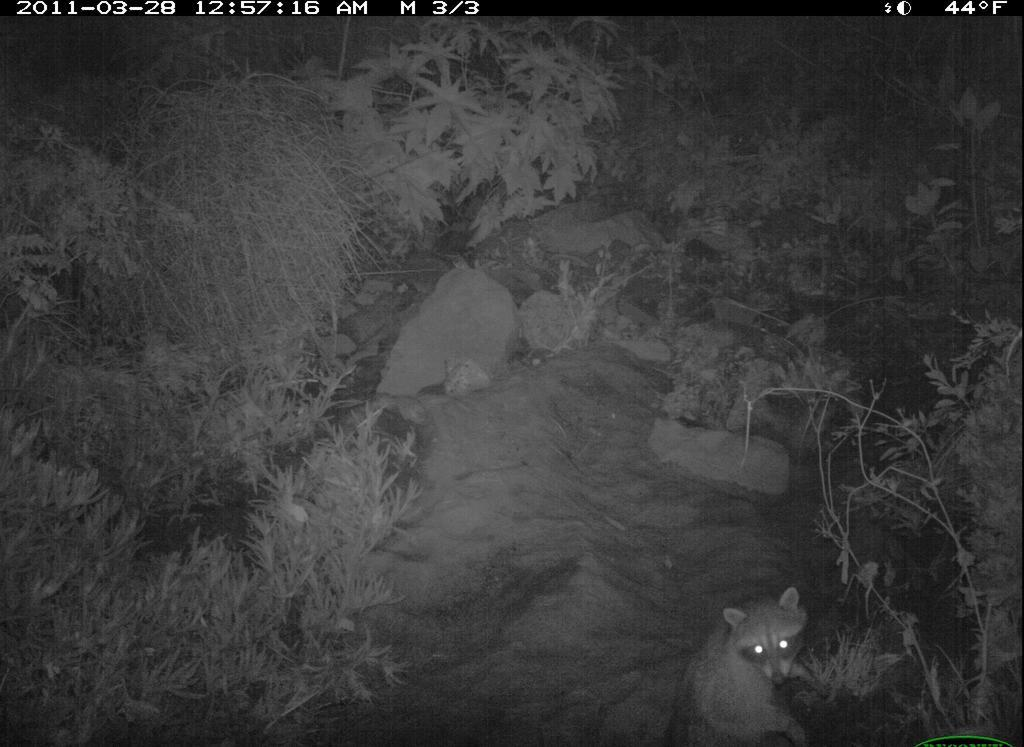raccoon: (667, 585, 838, 747)
